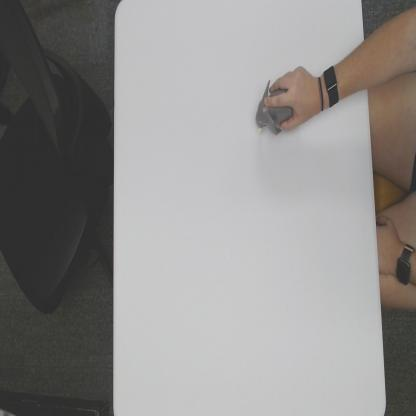Arm: (339, 38, 365, 99)
Elephant: (254, 78, 293, 139)
Hand: (263, 62, 322, 136)
